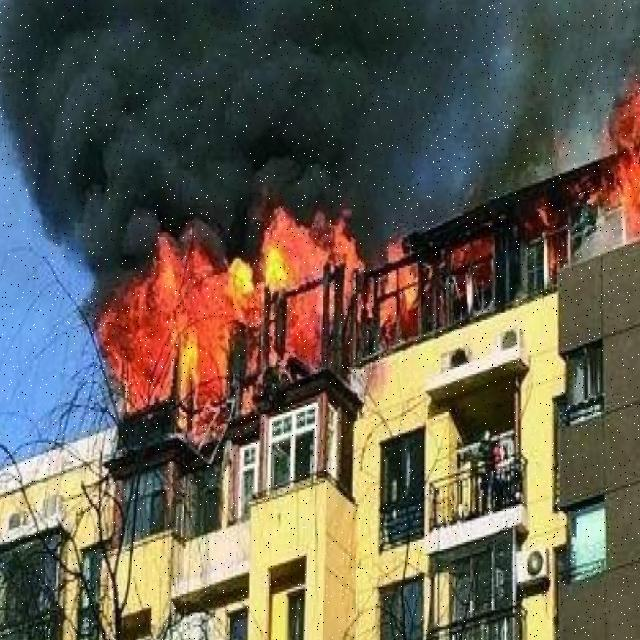fire: (95, 222, 364, 460), (586, 86, 640, 238)
smoke: (0, 0, 409, 237)
